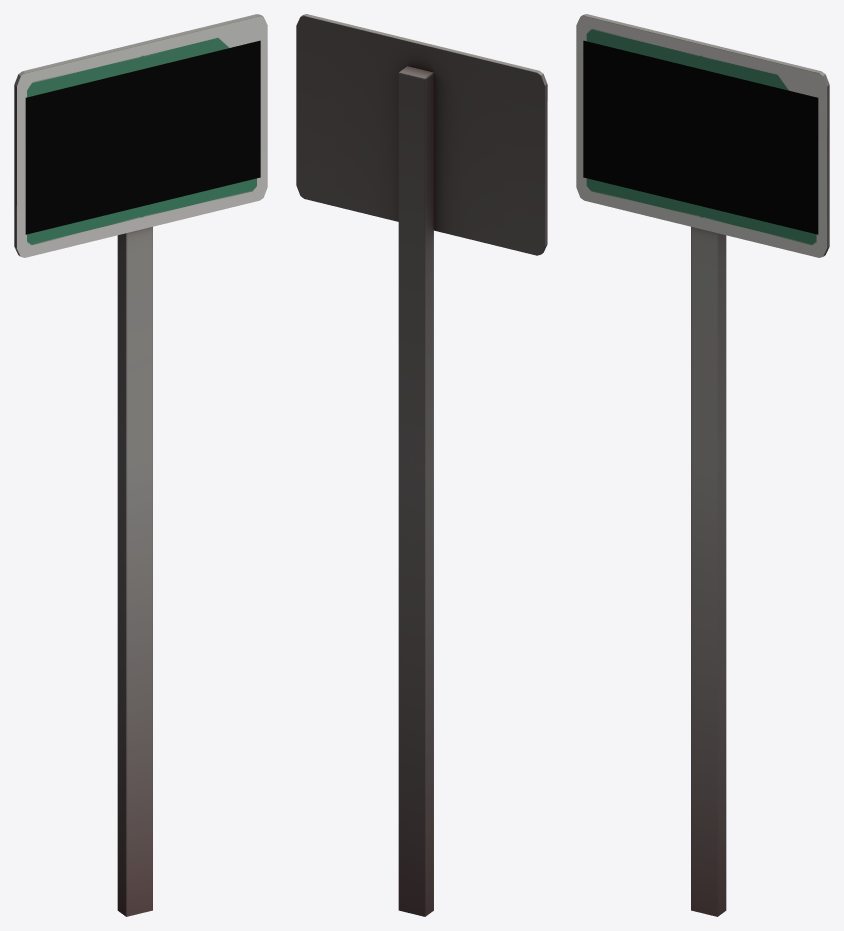
File: SM_Distance_Marker_Sign_Pole.FBX
The picture shows the model from 3 angles, left to right: view 1: azimuth 30°, elevation 25°; view 2: azimuth 150°, elevation 25°; view 3: azimuth 330°, elevation 25°; orthographic projection.
Parts seen in each view (by area): view 1: SM_Distance_Marker_Sign_Pole; view 2: SM_Distance_Marker_Sign_Pole; view 3: SM_Distance_Marker_Sign_Pole.
Boxes of the visible parts, x1,y1,x2,y2 form: SM_Distance_Marker_Sign_Pole: (14, 14, 267, 916); SM_Distance_Marker_Sign_Pole: (296, 14, 547, 916); SM_Distance_Marker_Sign_Pole: (576, 14, 829, 916).
Bounding box in the file's own units: 70.82 × 6.04 × 235.
